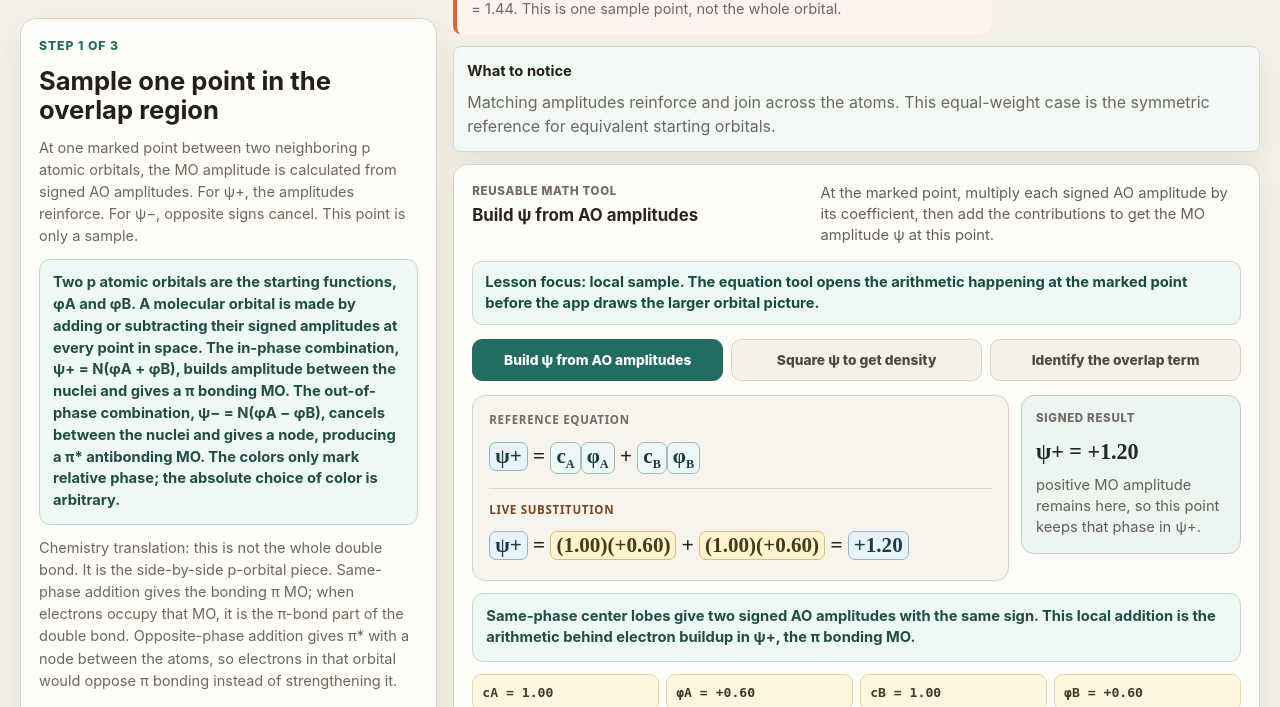
Lesson 2 combination coefficient explanation › keeps the molecular orbital equation open and teaching-rich
(page scrolled)
Check: the button named "MO wave amplitude" is shown, box top-left (489, 442), bottom-right (528, 471)
Check: the button with aria-label "weight on orbital A" is shown, box top-left (550, 442), bottom-right (581, 474)
Click the button "Identify the overlap term" at (1116,360), box top-left (990, 339), bottom-right (1241, 381)
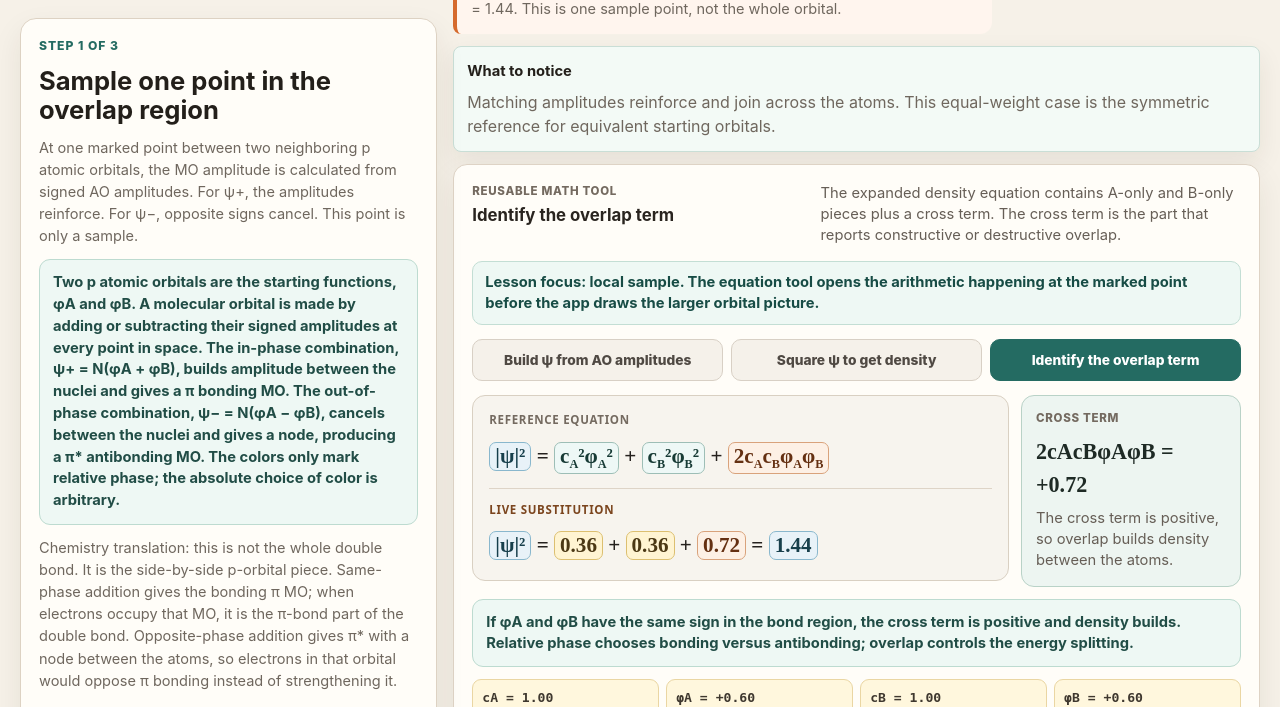
Check: the text "reports constructive or destructive overlap" is shown, box top-left (821, 184), bottom-right (1234, 244)
Check: the text "Relative phase chooses bonding versus antibonding" is shown, box top-left (486, 613), bottom-right (1181, 652)
